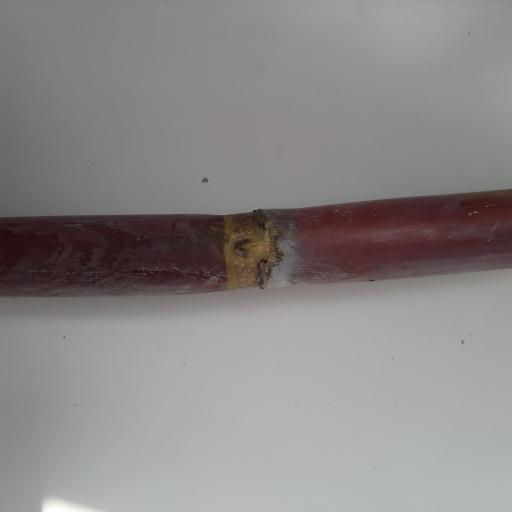Bud: (232, 236, 261, 260)
